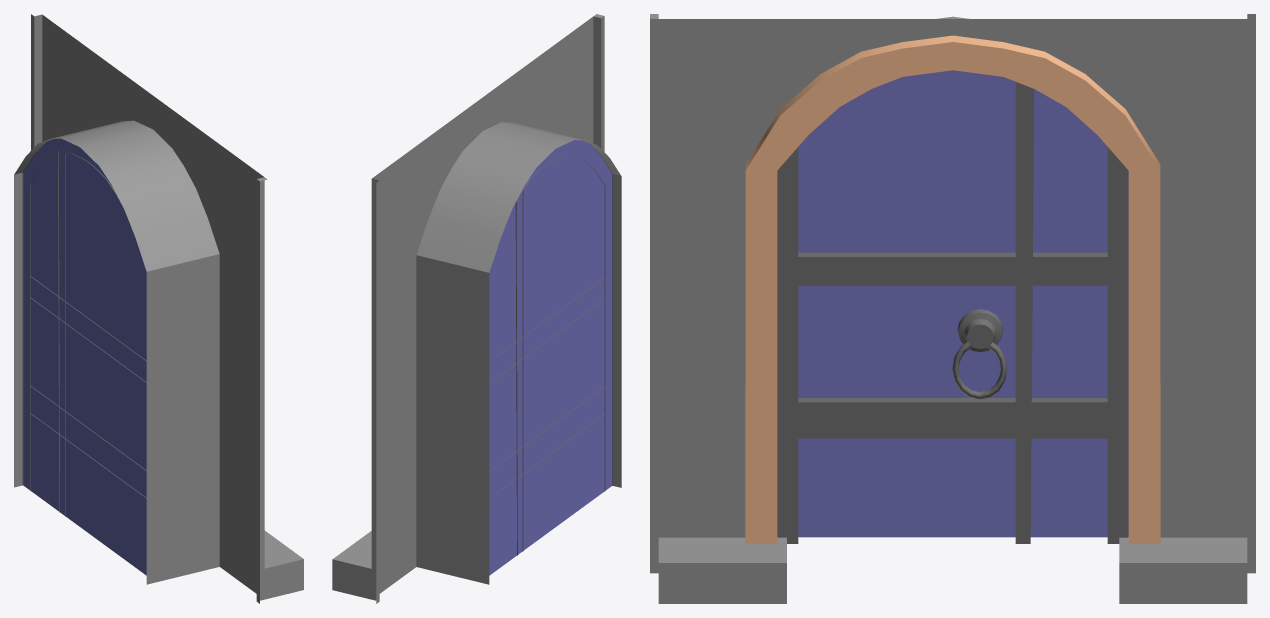
File: Big_Doors.fbx
3 views of the same model, side by side, from view 1: azimuth 30°, elevation 25°; view 2: azimuth 150°, elevation 25°; view 3: azimuth 270°, elevation 25° (orthographic). The views are drawn at different scales.
Visible parts, largest first — view 1: Big_Doors; view 2: Big_Doors; view 3: Big_Doors.
Part boxes in pixels (bbox=[...]): Big_Doors: bbox=[14, 14, 303, 603]; Big_Doors: bbox=[332, 14, 621, 603]; Big_Doors: bbox=[650, 14, 1255, 603].
Bounding box in the file's own units: 129 × 462 × 453.
